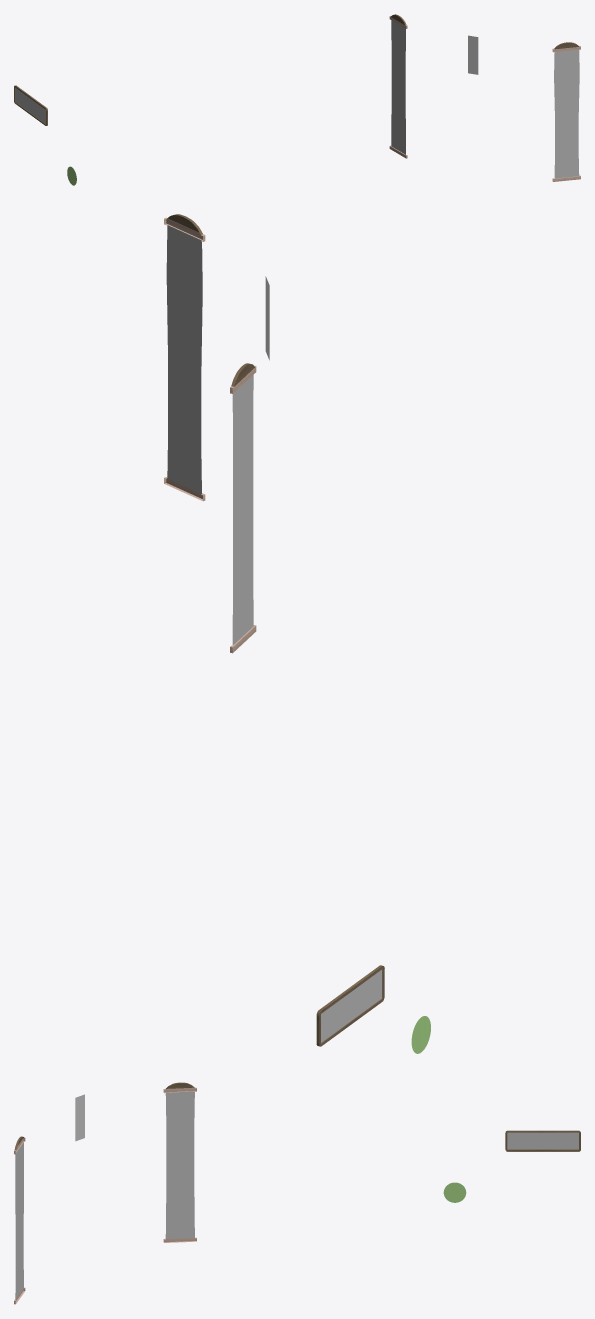
Rendered from SM_ENV_KNVLLG_Signs_3.mo.fbx.
The picture shows the model from 3 angles, top to bottom: view 1: azimuth 30°, elevation 25°; view 2: azimuth 150°, elevation 25°; view 3: azimuth 270°, elevation 25°; orthographic projection. The views are drawn at different scales.
Parts seen in each view (by area): view 1: SM_ENV_KNVLLG_Signs_3.mo; view 2: SM_ENV_KNVLLG_Signs_3.mo; view 3: SM_ENV_KNVLLG_Signs_3.mo.
Boxes of the visible parts, <box> form: SM_ENV_KNVLLG_Signs_3.mo: <box>14,14,580,185</box>; SM_ENV_KNVLLG_Signs_3.mo: <box>164,214,430,1053</box>; SM_ENV_KNVLLG_Signs_3.mo: <box>14,1082,580,1304</box>.
Size of the model in its own units: 22.78 by 14.12 by 30.03.
